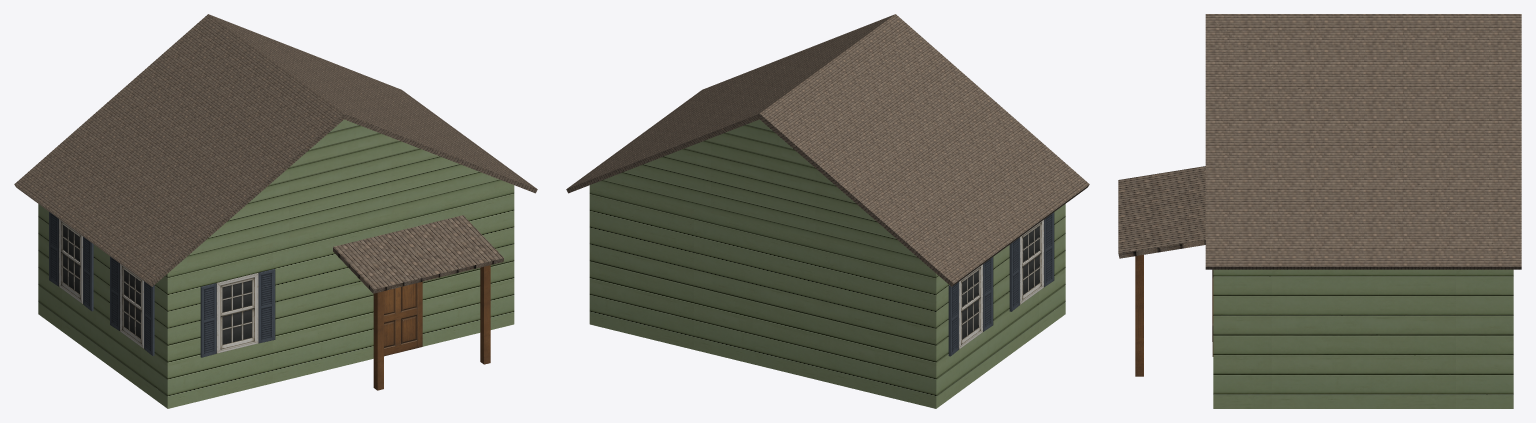
Rendered from House_Cottage.fbx.
3 renders of one model, left to right at view 1: azimuth 30°, elevation 25°; view 2: azimuth 150°, elevation 25°; view 3: azimuth 270°, elevation 25°, orthographic. The views are drawn at different scales.
Visible parts, largest first — view 1: Cottage_Body, Cottage_Roof_L, Cottage_Roof_L.001, Cottage_PorchRoof, Cottage_W1_Glass, Cottage_W1_Glass.001, Cottage_W1_Glass.002, Cottage_Door, Cottage_PorchPostL, Cottage_PorchPostL.001; view 2: Cottage_Body, Cottage_Roof_L, Cottage_Roof_L.001, Cottage_W1_Glass.002, Cottage_W1_Glass.001; view 3: Cottage_Roof_L.001, Cottage_Body, Cottage_PorchRoof, Cottage_PorchPostL.001.
Part boxes in pixels (x1=…): Cottage_Body: x1=38, y1=119, x2=514, y2=408; Cottage_Roof_L: x1=14, y1=14, x2=344, y2=286; Cottage_Roof_L.001: x1=209, y1=14, x2=537, y2=193; Cottage_PorchRoof: x1=333, y1=215, x2=503, y2=293; Cottage_W1_Glass: x1=200, y1=269, x2=275, y2=357; Cottage_W1_Glass.001: x1=110, y1=256, x2=154, y2=355; Cottage_W1_Glass.002: x1=49, y1=212, x2=93, y2=311; Cottage_Door: x1=384, y1=282, x2=422, y2=356; Cottage_PorchPostL: x1=373, y1=291, x2=383, y2=390; Cottage_PorchPostL.001: x1=480, y1=265, x2=490, y2=364; Cottage_Body: x1=589, y1=119, x2=1065, y2=408; Cottage_Roof_L: x1=759, y1=14, x2=1089, y2=286; Cottage_Roof_L.001: x1=566, y1=14, x2=894, y2=193; Cottage_W1_Glass.002: x1=948, y1=257, x2=993, y2=356; Cottage_W1_Glass.001: x1=1009, y1=212, x2=1054, y2=311; Cottage_Roof_L.001: x1=1205, y1=14, x2=1521, y2=269; Cottage_Body: x1=1213, y1=269, x2=1513, y2=408; Cottage_PorchRoof: x1=1118, y1=166, x2=1205, y2=258; Cottage_PorchPostL.001: x1=1135, y1=255, x2=1143, y2=376.
Size of the model in its own units: 952 by 599 by 738.
